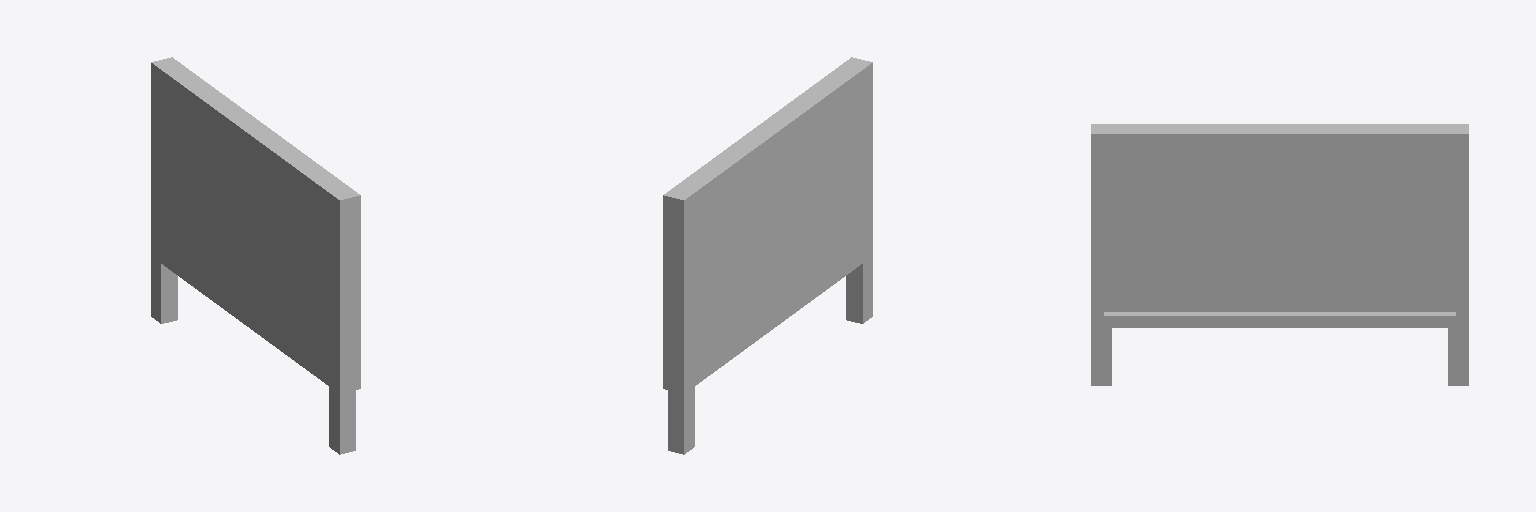
Rendered from board.obj.
3 views of the same model, side by side, from view 1: azimuth 30°, elevation 25°; view 2: azimuth 150°, elevation 25°; view 3: azimuth 270°, elevation 25° (orthographic).
Visible parts, largest first — view 1: Cube; view 2: Cube; view 3: Cube.
Part boxes in pixels (left/top/right/bottom): Cube: left=151, top=57, right=360, bottom=454; Cube: left=663, top=57, right=872, bottom=454; Cube: left=1091, top=124, right=1468, bottom=385.
Size of the model in its own units: 1.27 by 14.5 by 19.51.